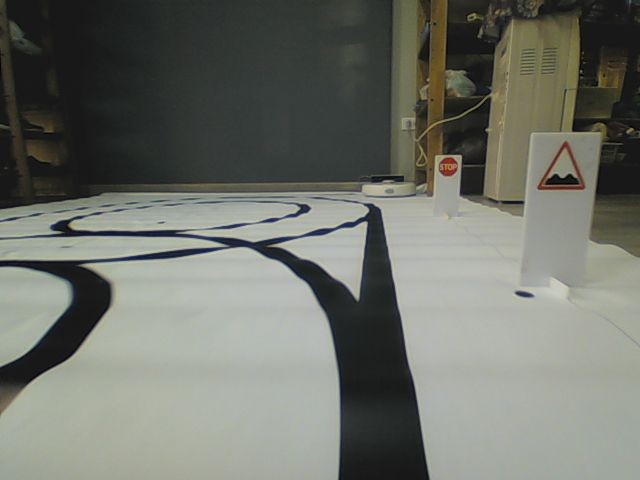Stop: (436, 157, 461, 175)
